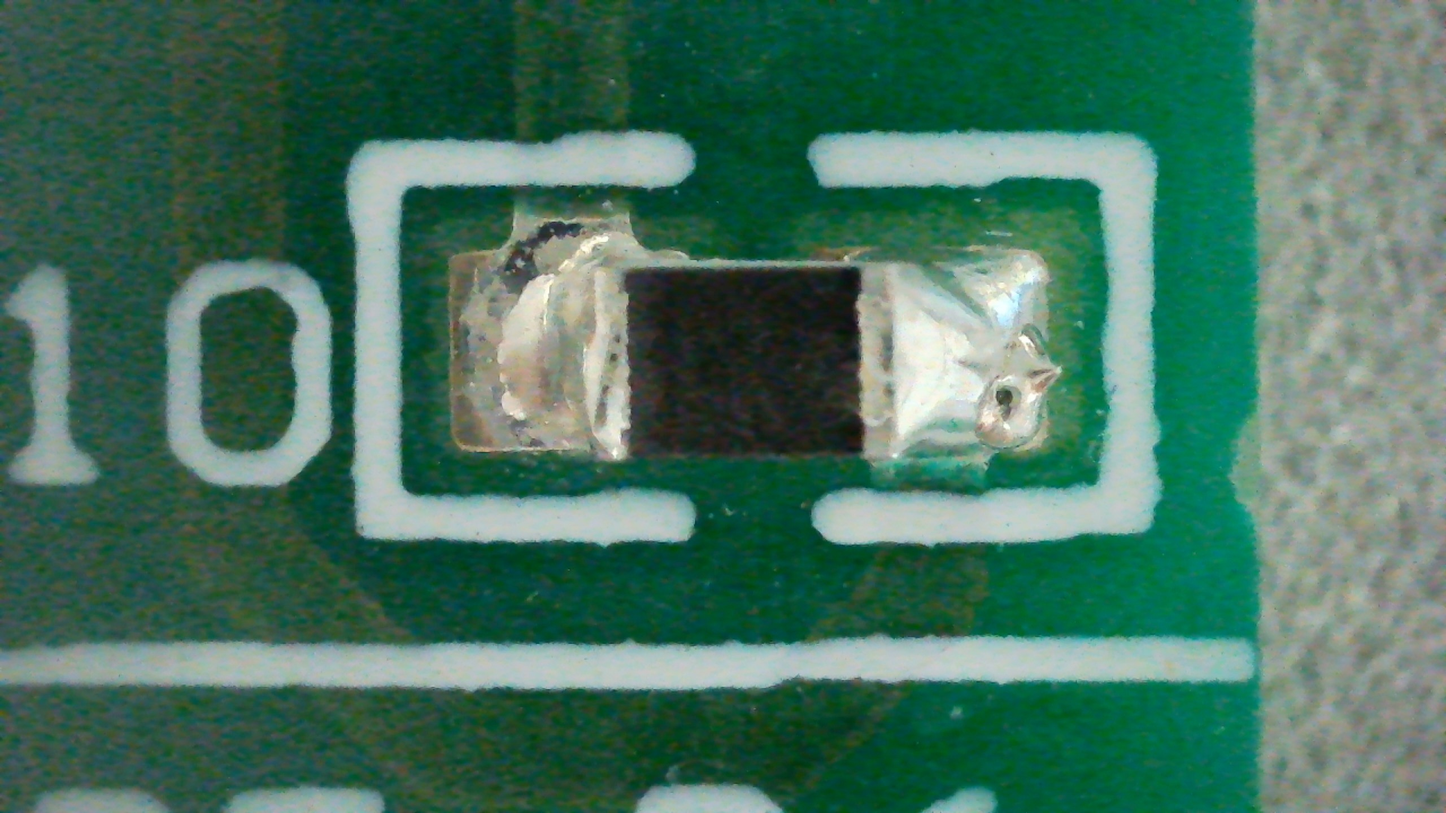OK: (450, 214, 1058, 462)
